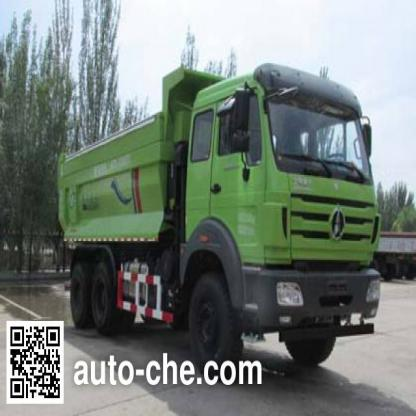normal-truck: (50, 66, 372, 325)
